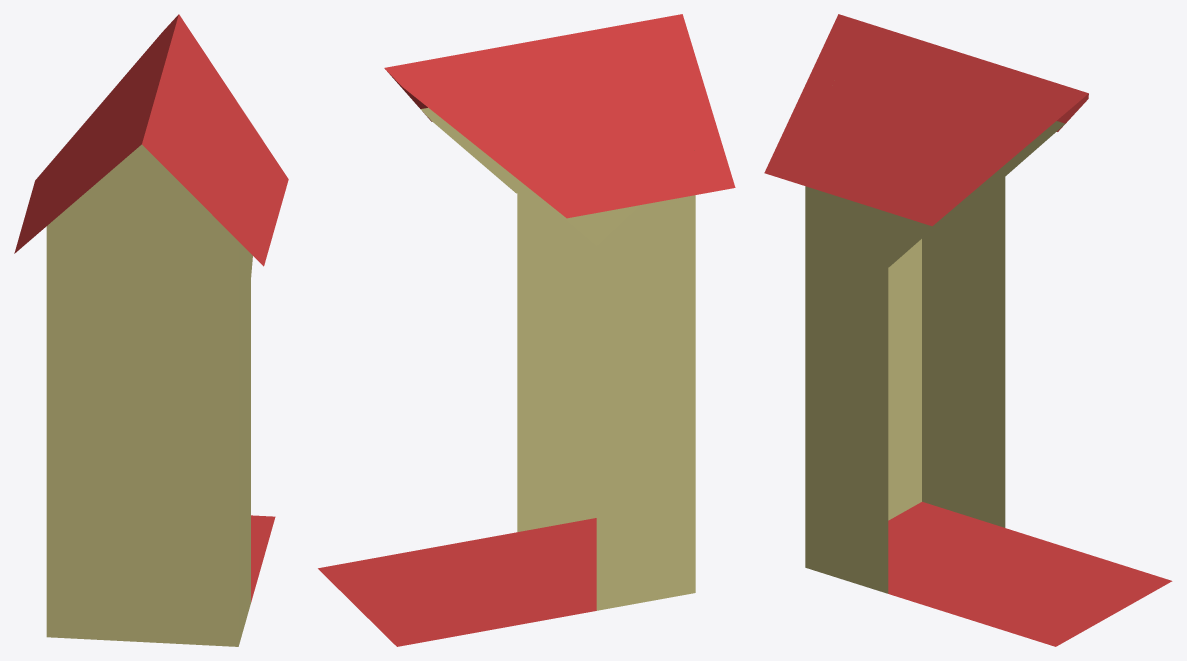
The picture shows the model from 3 angles, left to right: view 1: azimuth 30°, elevation 25°; view 2: azimuth 150°, elevation 25°; view 3: azimuth 270°, elevation 25°; orthographic projection. The views are drawn at different scales.
Size of the model in its own units: 9.87 by 10.48 by 14.55.
